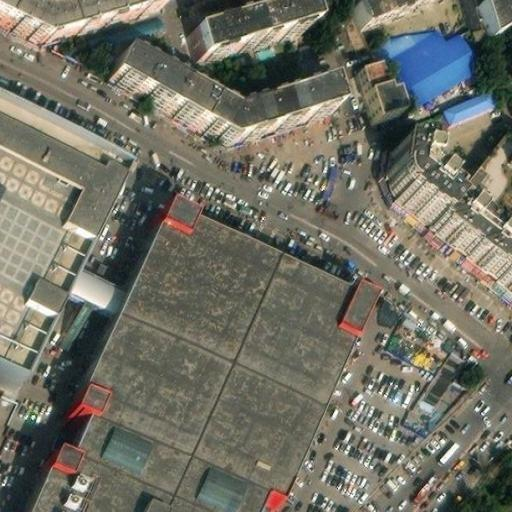building: (24, 205, 375, 512), (113, 45, 342, 133), (421, 193, 512, 292), (390, 24, 486, 101), (401, 345, 479, 438), (392, 139, 451, 213), (463, 123, 512, 199), (59, 279, 120, 330), (354, 54, 401, 115), (442, 83, 496, 119), (379, 21, 429, 52)
